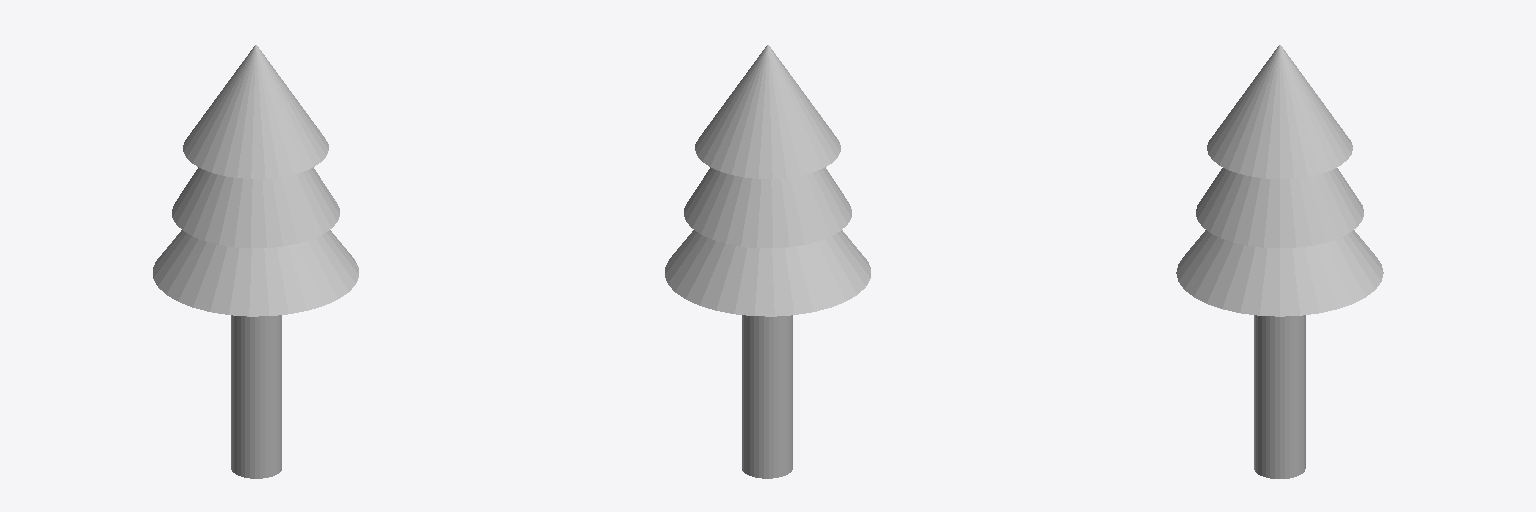
File: Tree.obj
3 views of the same model, side by side, from view 1: azimuth 30°, elevation 25°; view 2: azimuth 150°, elevation 25°; view 3: azimuth 270°, elevation 25° (orthographic).
Parts seen in each view (by area): view 1: Cone, Cone.002, Cone.001, Cylinder; view 2: Cone, Cone.002, Cone.001, Cylinder; view 3: Cone, Cone.002, Cone.001, Cylinder.
Boxes of the visible parts, x1,y1,x2,y2 form: Cone: [153, 230, 358, 316]; Cone.002: [183, 45, 328, 178]; Cone.001: [172, 167, 339, 247]; Cylinder: [231, 315, 281, 478]; Cone: [665, 230, 870, 316]; Cone.002: [695, 45, 840, 178]; Cone.001: [684, 167, 851, 247]; Cylinder: [742, 315, 792, 478]; Cone: [1176, 230, 1383, 316]; Cone.002: [1207, 45, 1352, 178]; Cone.001: [1196, 168, 1363, 248]; Cylinder: [1254, 315, 1305, 478].
Size of the model in its own units: 2.84 by 6.4 by 2.84.